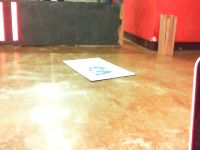switch: (10, 1, 19, 41), (1, 2, 5, 42)
